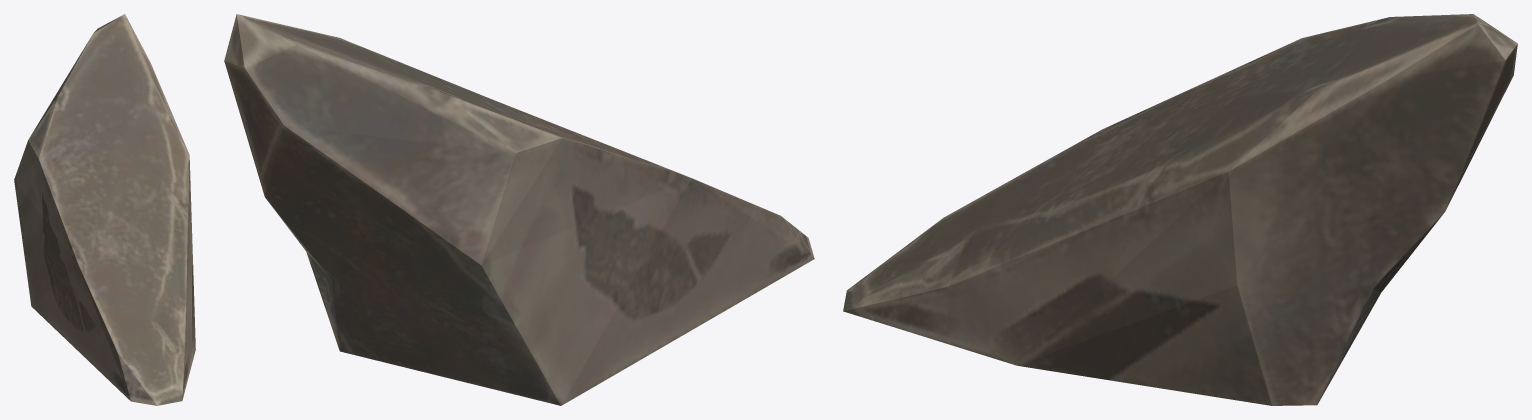
The model's file is Rock_A.fbx.
3 views of the same model, side by side, from view 1: azimuth 30°, elevation 25°; view 2: azimuth 150°, elevation 25°; view 3: azimuth 270°, elevation 25° (orthographic). The views are drawn at different scales.
Parts seen in each view (by area): view 1: Dn_VFX_Rocks_Single_J.mo; view 2: Dn_VFX_Rocks_Single_J.mo; view 3: Dn_VFX_Rocks_Single_J.mo.
Boxes of the visible parts, x1,y1,x2,y2 form: Dn_VFX_Rocks_Single_J.mo: (14, 14, 195, 405); Dn_VFX_Rocks_Single_J.mo: (224, 14, 814, 405); Dn_VFX_Rocks_Single_J.mo: (843, 14, 1517, 405).
Size of the model in its own units: 72.29 by 94.87 by 147.
1 material, 1 textured.
